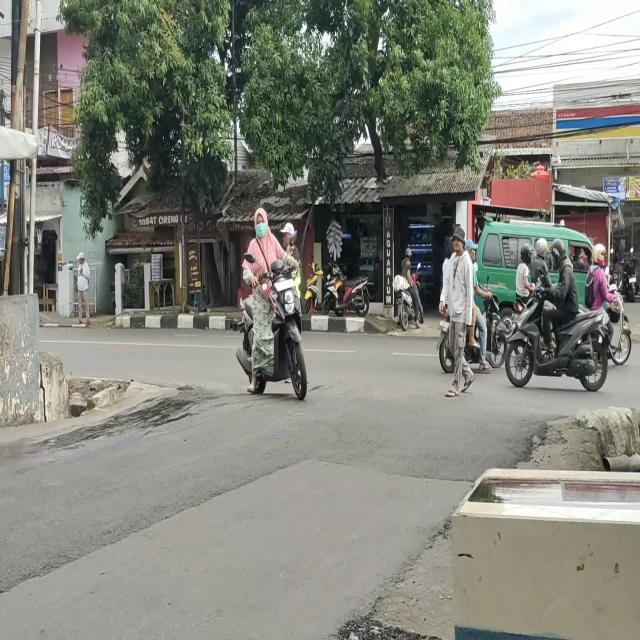helmet: (551, 240, 566, 263), (592, 241, 605, 266), (534, 234, 548, 254), (524, 244, 532, 264)
no-helmet: (251, 204, 272, 244), (467, 240, 479, 256), (404, 247, 413, 261)
